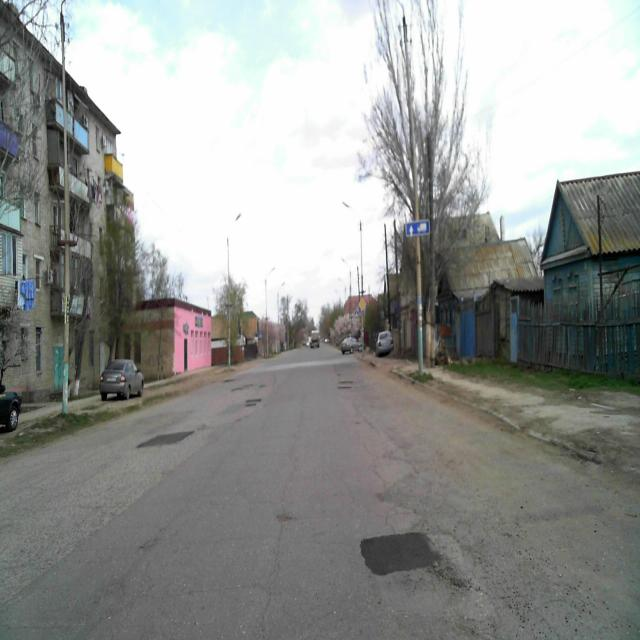road sign: (405, 218, 430, 237), (359, 296, 366, 311)
